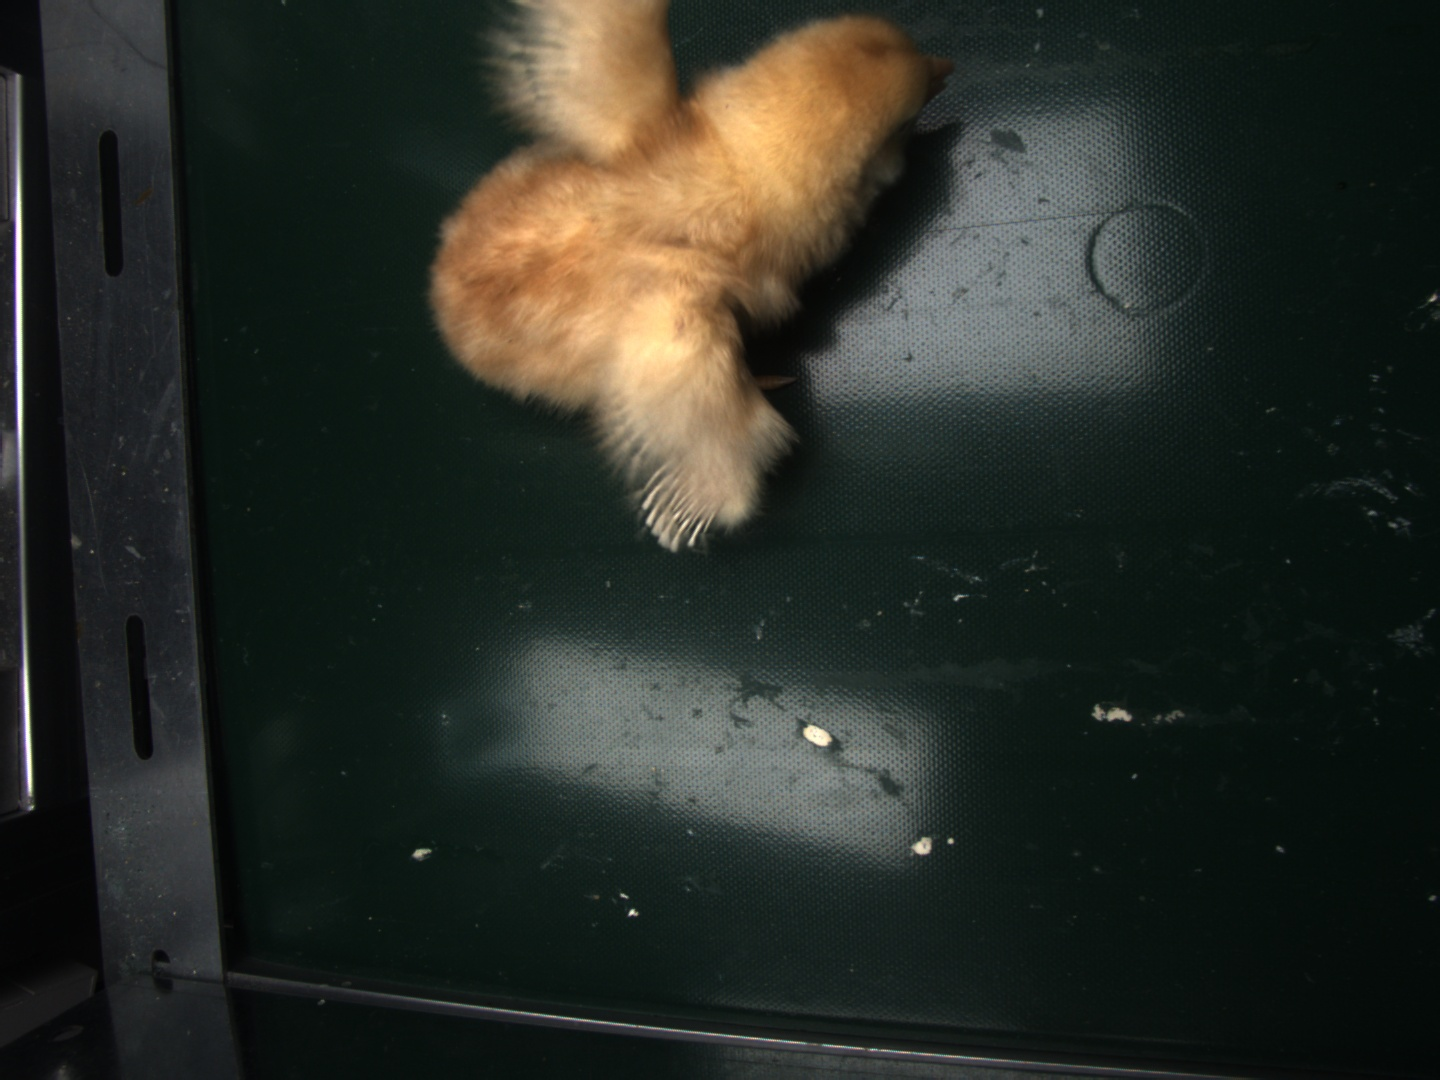female: (636, 459, 713, 555)
